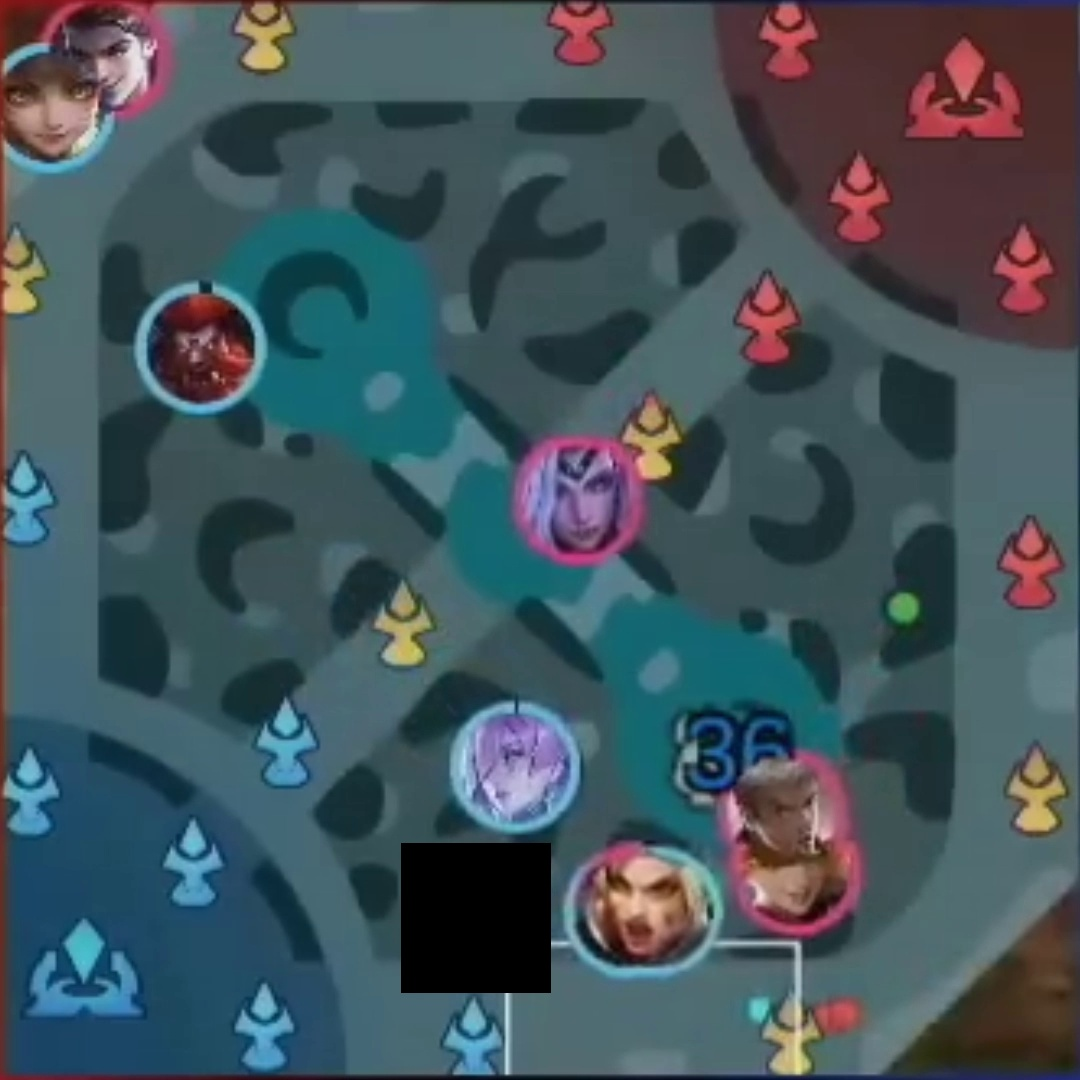Chou: (746, 765, 823, 856)
Claude: (77, 7, 147, 97)
Fanny: (751, 865, 840, 921)
Masha: (604, 861, 684, 956)
Minotaur: (157, 301, 244, 395)
Novaria: (470, 721, 559, 820)
Valentina: (533, 452, 619, 545)
Wanwan: (11, 63, 89, 149)
